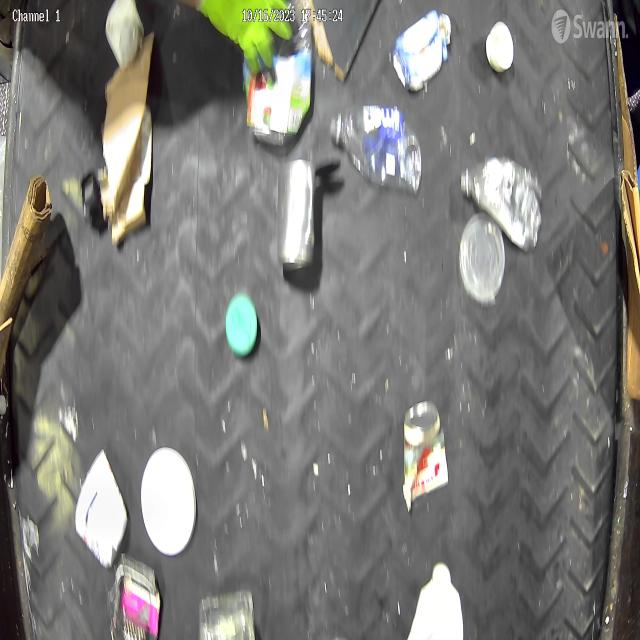can: (275, 154, 322, 276), (405, 559, 465, 640), (192, 585, 263, 640)
plastic_bottle: (331, 100, 424, 204), (460, 141, 543, 255)
